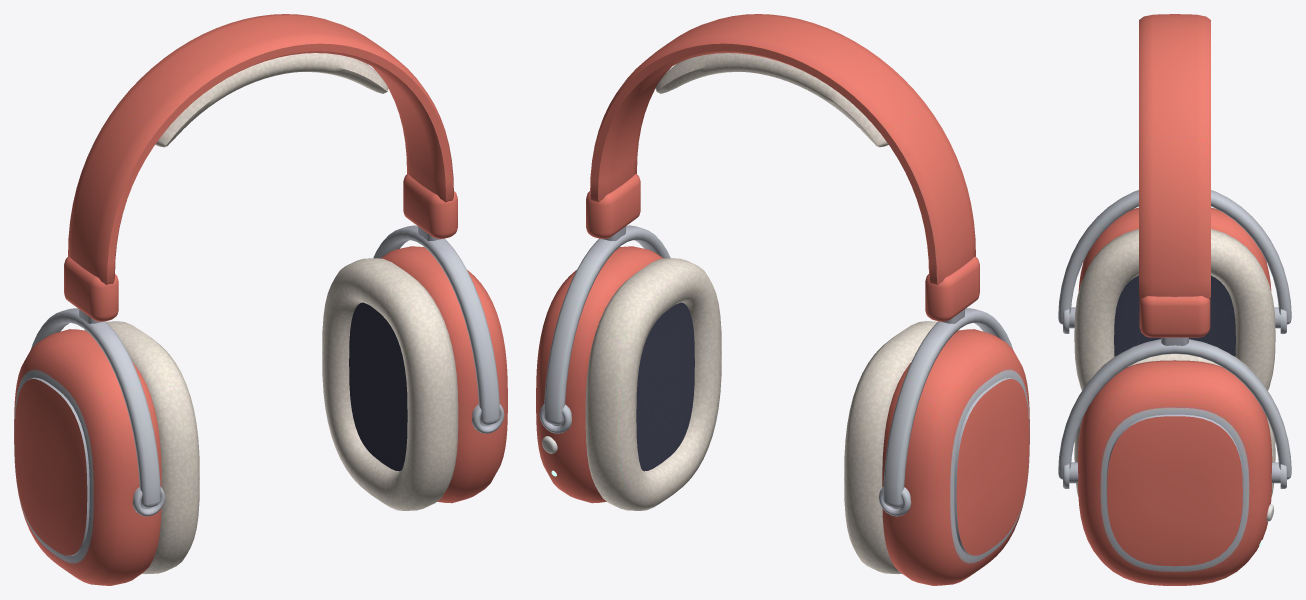
Rendered from cascos.glb.
3 views of the same model, side by side, from view 1: azimuth 30°, elevation 25°; view 2: azimuth 150°, elevation 25°; view 3: azimuth 270°, elevation 25° (orthographic). The views are drawn at different scales.
Parts seen in each view (by area): view 1: headphones_body; view 2: headphones_body; view 3: headphones_body.
Part boxes in pixels (x1,y1,x2,y2): headphones_body: (14, 14, 507, 585); headphones_body: (536, 14, 1029, 585); headphones_body: (1058, 14, 1291, 585).
Size of the model in its own units: 0.1962 by 0.2207 by 0.0994.
Materials: 4 (3 with a texture image).
